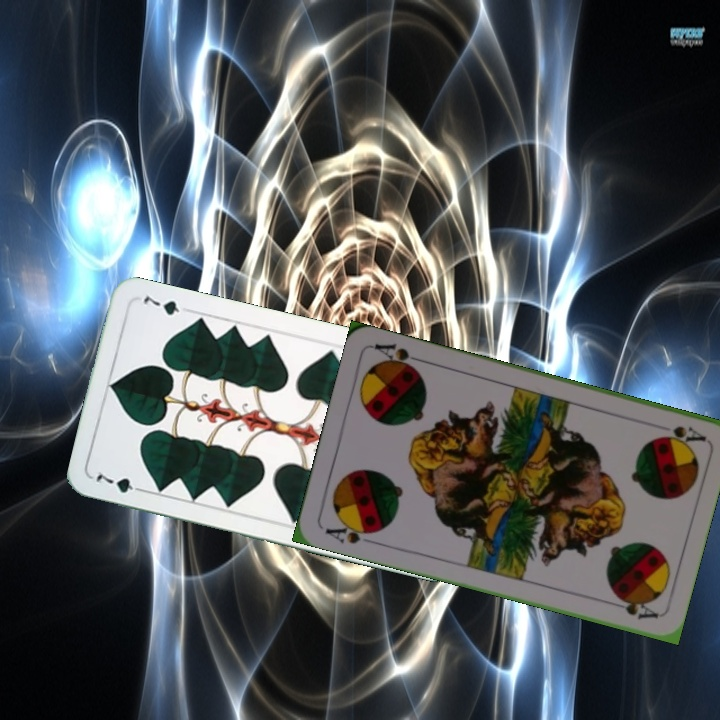G7: (91, 467, 149, 496)
SA: (321, 517, 381, 547), (655, 422, 707, 447)
